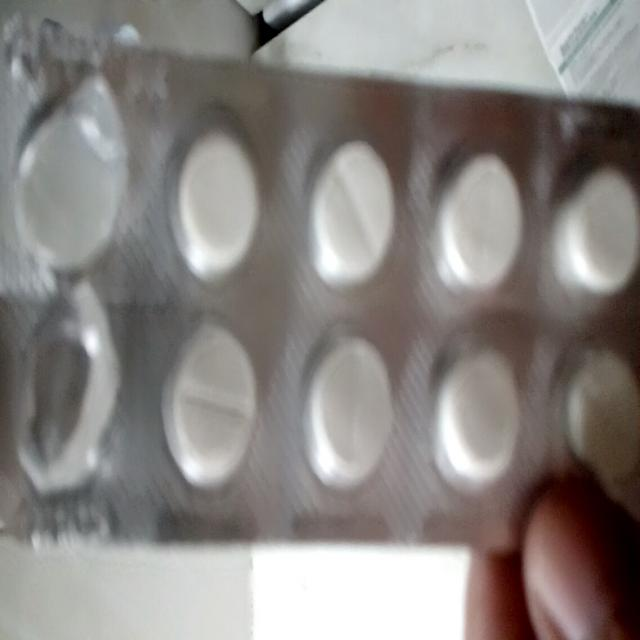Empty: (2, 48, 134, 278), (5, 294, 130, 502)
Pill: (162, 104, 266, 290), (158, 312, 262, 496), (294, 324, 403, 494), (300, 118, 400, 296), (428, 330, 526, 502), (426, 134, 524, 304), (556, 332, 640, 502), (560, 158, 640, 308)
